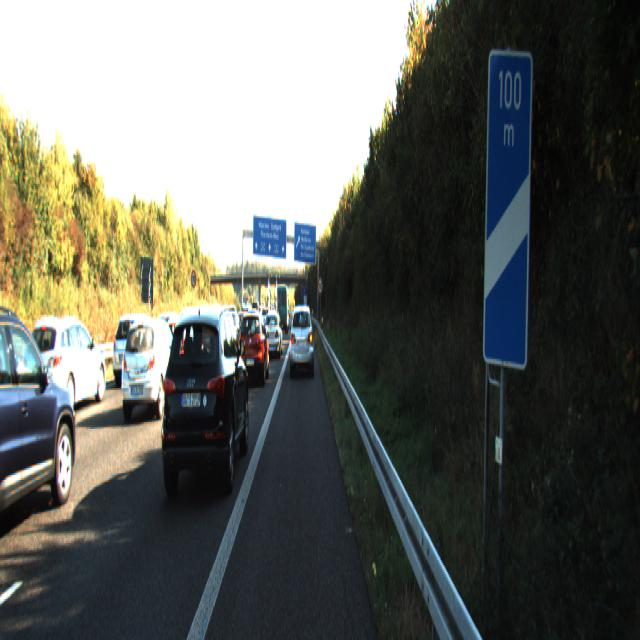Car: (0, 303, 78, 555), (157, 304, 250, 511), (22, 313, 107, 422), (119, 316, 182, 424), (112, 312, 160, 388), (237, 310, 270, 386), (289, 302, 314, 377), (263, 312, 283, 359), (276, 283, 288, 333)
